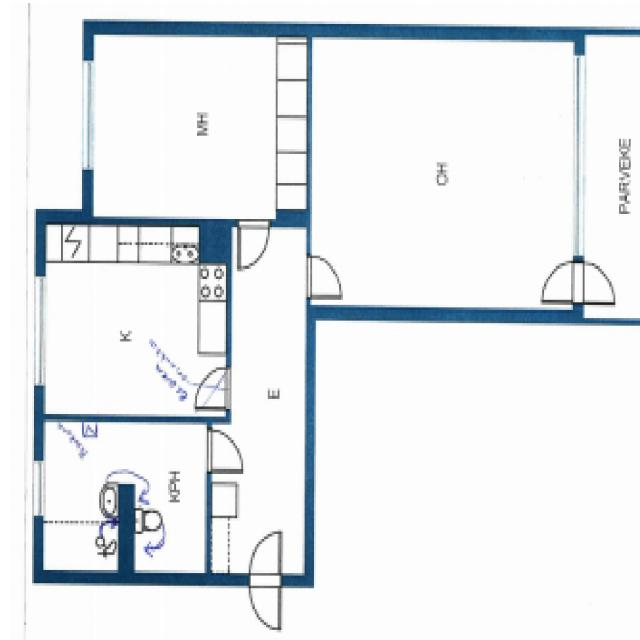door: (541, 258, 583, 302), (573, 258, 614, 302), (248, 572, 278, 624), (248, 530, 278, 582), (306, 255, 341, 297), (238, 217, 269, 264), (206, 429, 241, 470)
